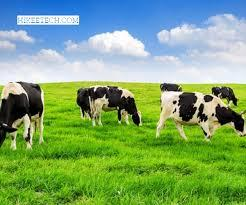cow: (156, 91, 246, 142), (0, 81, 45, 151), (89, 85, 143, 127), (77, 84, 129, 120), (211, 86, 238, 107), (160, 82, 182, 92)
